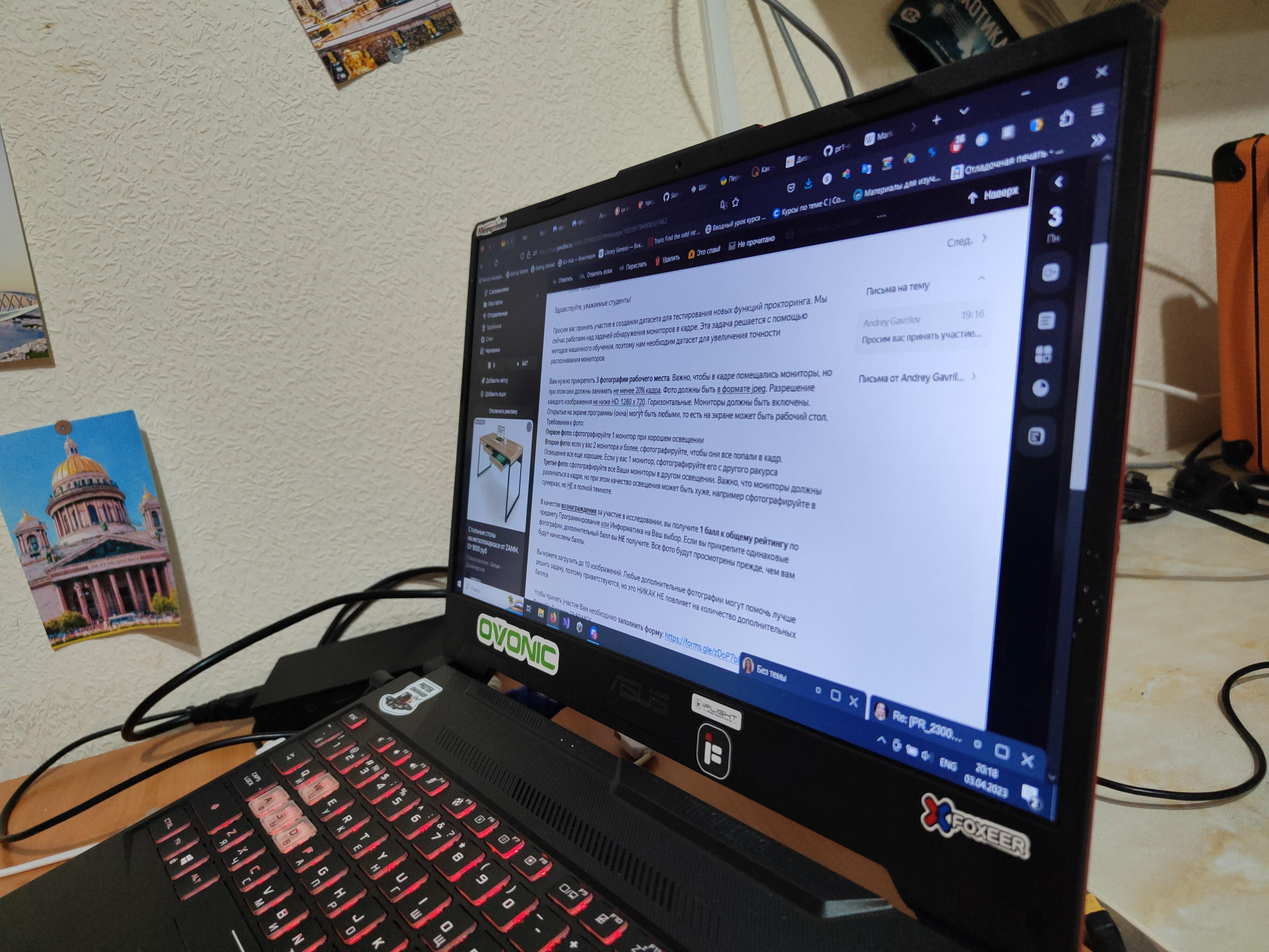monitor: (424, 0, 1169, 952)
